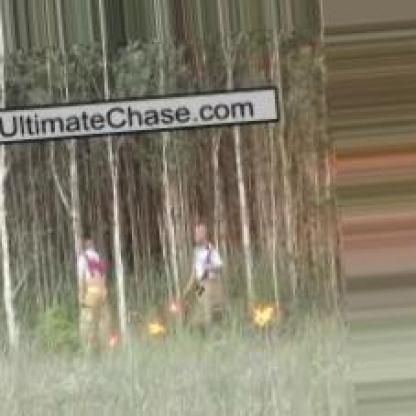fire: (245, 300, 285, 327), (138, 310, 168, 338)
